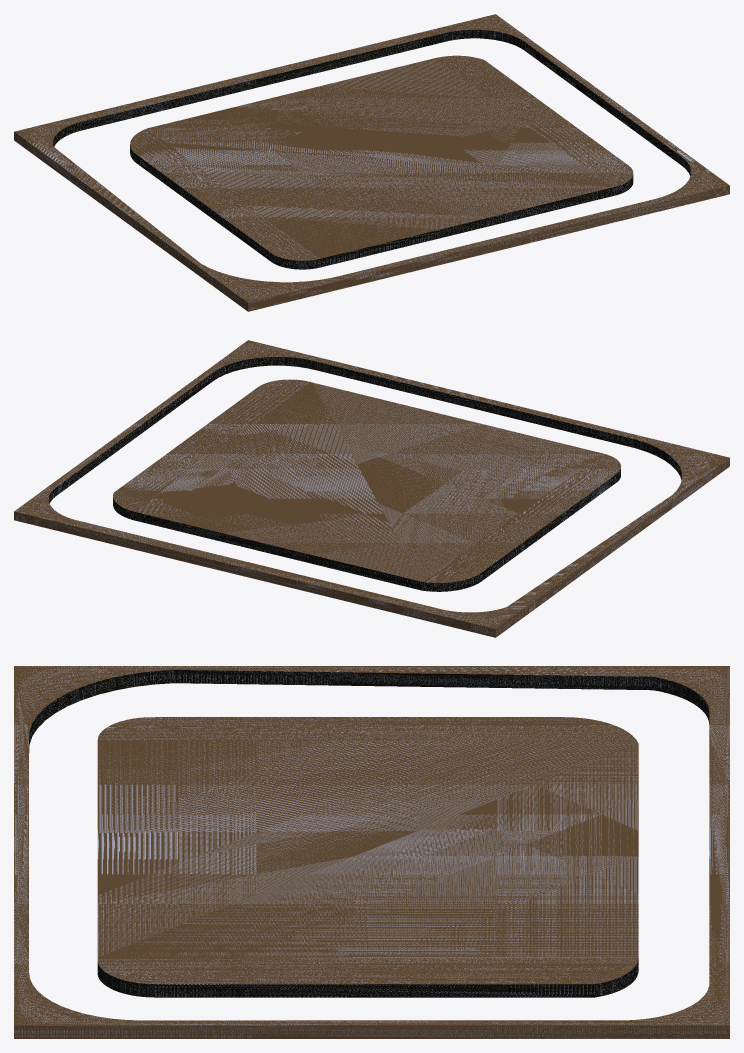
3 views of the same model, one above another, from view 1: azimuth 30°, elevation 25°; view 2: azimuth 150°, elevation 25°; view 3: azimuth 270°, elevation 25° (orthographic). The views are drawn at different scales.
Parts seen in each view (by area): view 1: SketchUp (×4); view 2: SketchUp (×4); view 3: SketchUp (×4).
Part boxes in pixels (<box>): SketchUp (×4): <box>14,14,729,311</box>; SketchUp (×4): <box>14,340,729,637</box>; SketchUp (×4): <box>14,666,729,1038</box>.
Size of the model in its own units: 346 by 291 by 6.
